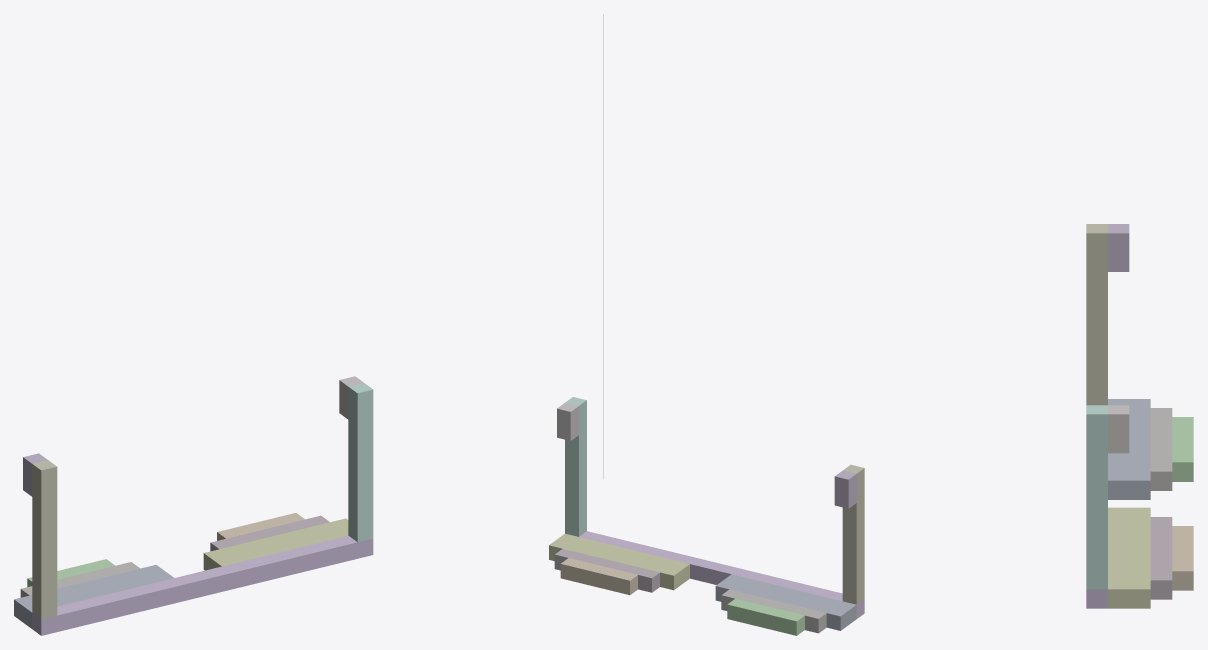
The model's file is Sunglasses.fbx.
The picture shows the model from 3 angles, left to right: view 1: azimuth 30°, elevation 25°; view 2: azimuth 150°, elevation 25°; view 3: azimuth 270°, elevation 25°; orthographic projection. The views are drawn at different scales.
Visible parts, largest first — view 1: Object_2; view 2: Object_2; view 3: Object_2.
Part boxes in pixels (<box>): Object_2: <box>14,376,373,635</box>; Object_2: <box>549,14,864,635</box>; Object_2: <box>1086,224,1193,608</box>.
Size of the model in its own units: 1200 by 1600 by 700.
